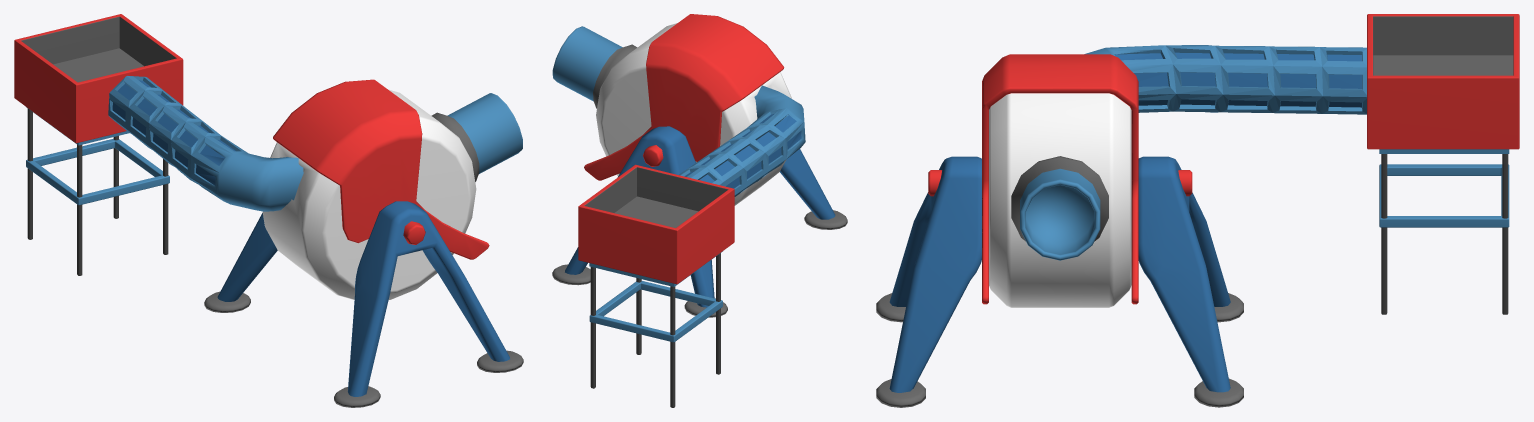
File: Ball_Throwing_Machine1.fbx
The picture shows the model from 3 angles, left to right: view 1: azimuth 30°, elevation 25°; view 2: azimuth 150°, elevation 25°; view 3: azimuth 270°, elevation 25°; orthographic projection. The views are drawn at different scales.
Visible parts, largest first — view 1: Ball_Throwing_Machine1, Ball_Box; view 2: Ball_Throwing_Machine1, Ball_Box; view 3: Ball_Throwing_Machine1, Ball_Box.
Boxes of the visible parts, x1,y1,x2,y2 form: Ball_Throwing_Machine1: [108, 76, 523, 407]; Ball_Box: [14, 14, 183, 275]; Ball_Throwing_Machine1: [552, 14, 847, 317]; Ball_Box: [578, 164, 734, 407]; Ball_Throwing_Machine1: [876, 45, 1366, 407]; Ball_Box: [1367, 14, 1519, 314].
Bounding box in the file's own units: 3.68 × 2.67 × 5.36.
